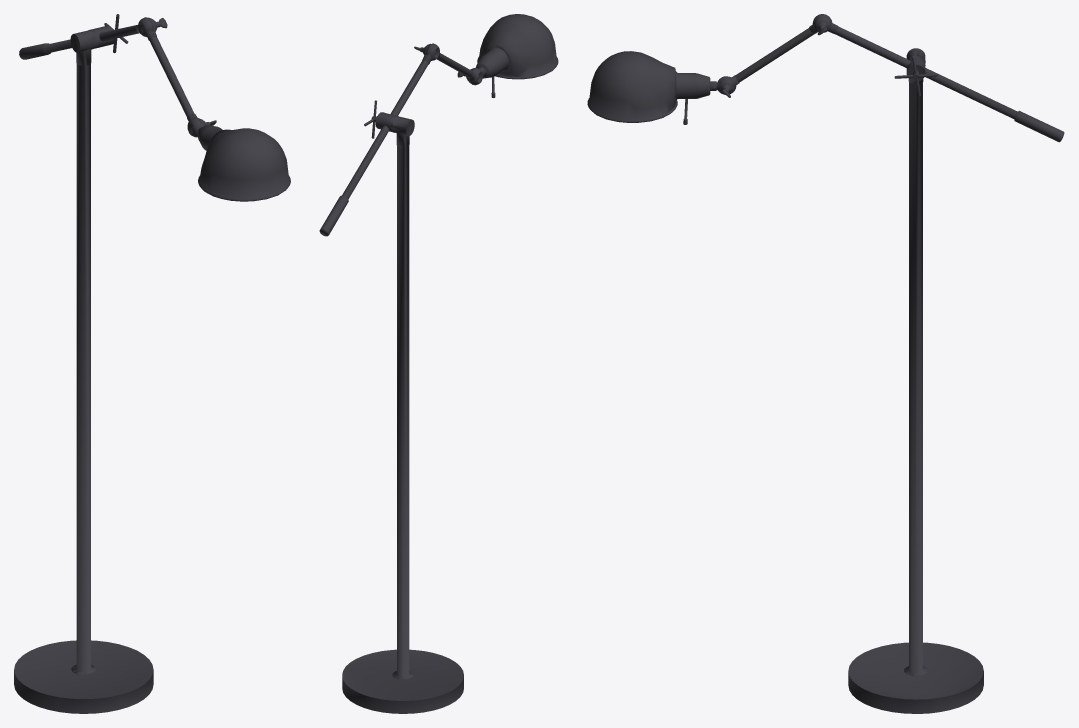
3 views of the same model, side by side, from view 1: azimuth 30°, elevation 25°; view 2: azimuth 150°, elevation 25°; view 3: azimuth 270°, elevation 25° (orthographic). The views are drawn at different scales.
Visible parts, largest first — view 1: visual_RootNode; view 2: visual_RootNode; view 3: visual_RootNode.
Part boxes in pixels (x1=…): visual_RootNode: x1=14, y1=14, x2=290, y2=713; visual_RootNode: x1=319, y1=14, x2=558, y2=713; visual_RootNode: x1=587, y1=14, x2=1064, y2=713.
Bounding box in the file's own units: 0.2421 × 0.8523 × 1.34.
Materials: 1 (1 with a texture image).
